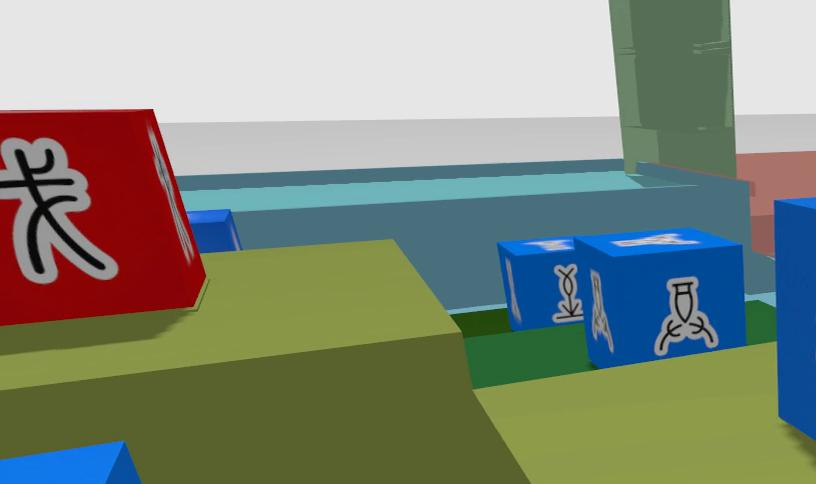KFS_FAKE: (0, 109, 206, 326), (0, 137, 118, 284)
KFS_REAL: (555, 227, 745, 367), (0, 138, 118, 284), (775, 198, 815, 440), (497, 236, 584, 330), (148, 127, 195, 263), (0, 442, 141, 483), (654, 277, 718, 355), (590, 269, 614, 352), (552, 264, 582, 323), (610, 232, 699, 247), (522, 239, 572, 251), (680, 314, 692, 326)
